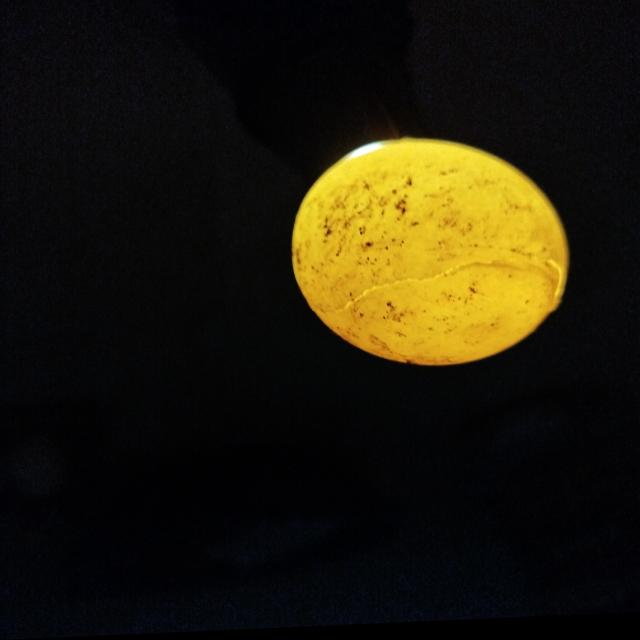Rachadura: (316, 254, 564, 322)
